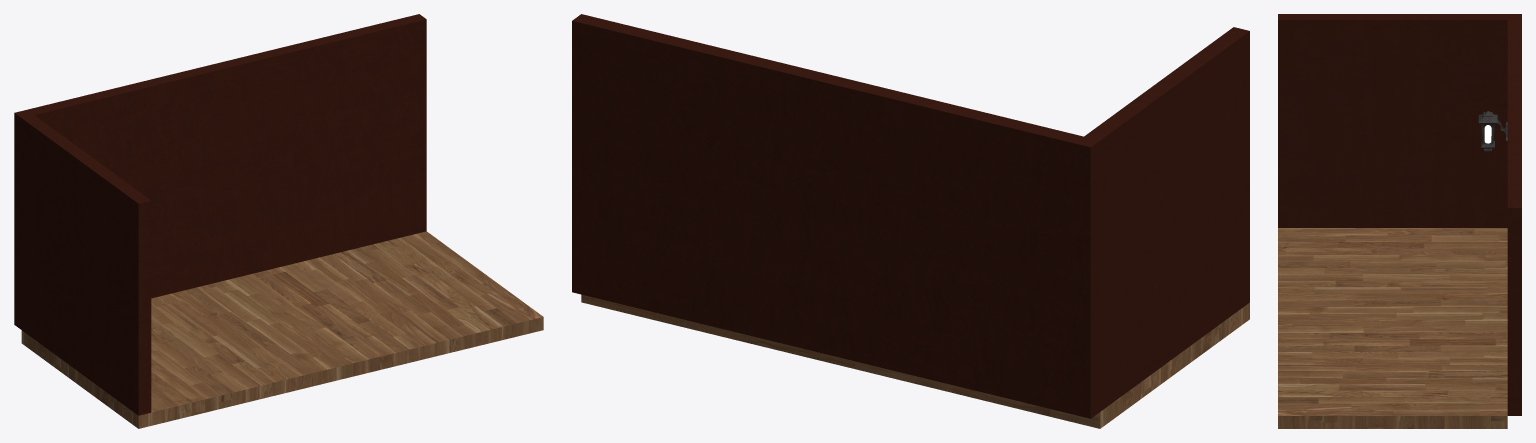
The model's file is stage.gltf.
3 views of the same model, side by side, from view 1: azimuth 30°, elevation 25°; view 2: azimuth 150°, elevation 25°; view 3: azimuth 270°, elevation 25° (orthographic). The views are drawn at different scales.
Visible parts, largest first — view 1: wall_8x4, wall_8x4.001, wall_4x4; view 2: wall_8x4, wall_4x4, wall_8x4.001; view 3: wall_4x4, wall_8x4.001, wall_8x4, lamp_outer.
Part boxes in pixels (x1,y1,x2,y2): wall_8x4: (14,14,426,329); wall_8x4.001: (21,231,543,428); wall_4x4: (21,115,151,415); wall_8x4: (572,14,1100,418); wall_4x4: (1084,27,1249,411); wall_8x4.001: (581,294,1249,428); wall_4x4: (1278,14,1507,227); wall_8x4.001: (1278,228,1507,428); wall_8x4: (1507,14,1521,415); lamp_outer: (1478,111,1497,151).
Bounding box in the file's own units: 8 × 4.25 × 4.25.
Materials: 4 (3 with a texture image).
